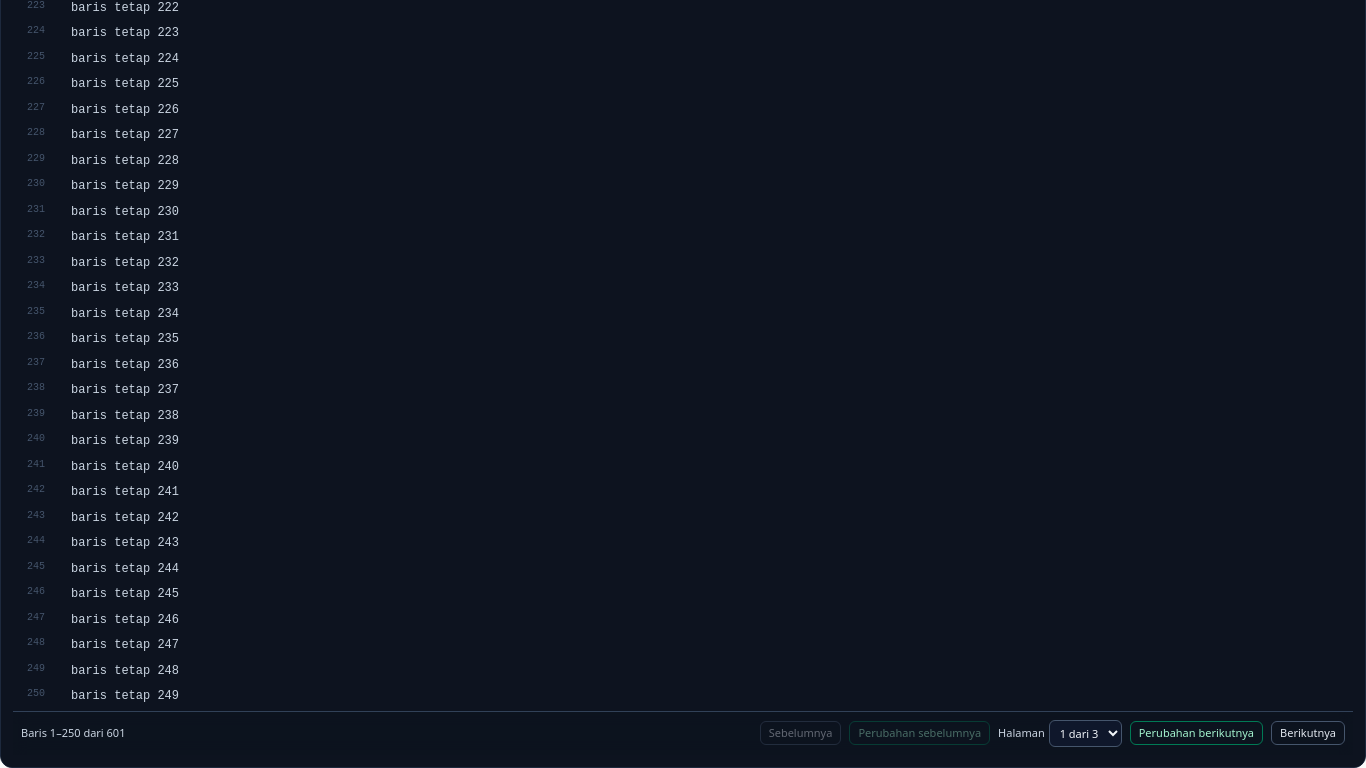
Test: ArtifactDiffViewer › jumps past long unchanged sections to the next changed page
(page scrolled)
Expected: the text "baris baru di akhir" is not shown
Click the button "Perubahan berikutnya": point(1196, 733) [1130,721,1263,746]
(page scrolled)
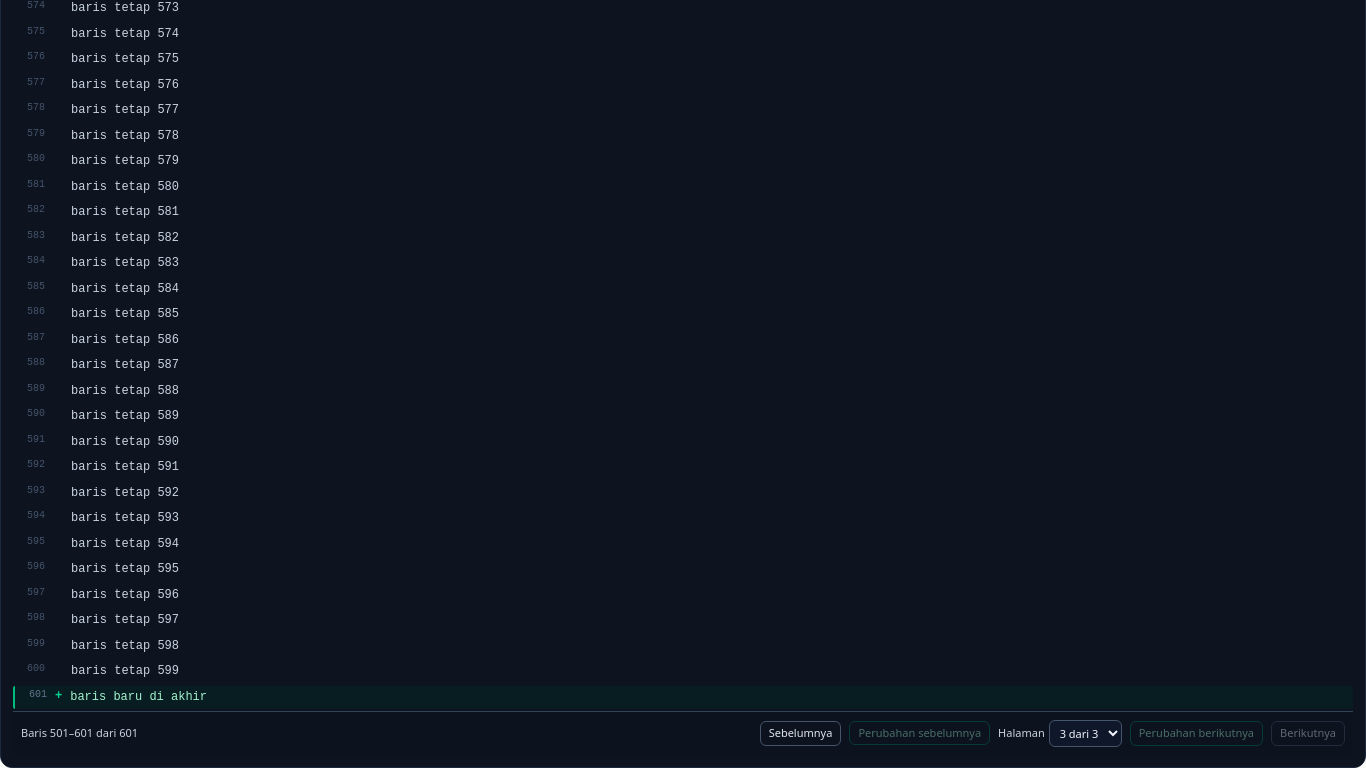
Now the text "Baris 501–601 dari 601" is shown, box [21,726,138,741]
Now the text "baris baru di akhir" is shown, box [70,690,207,704]
